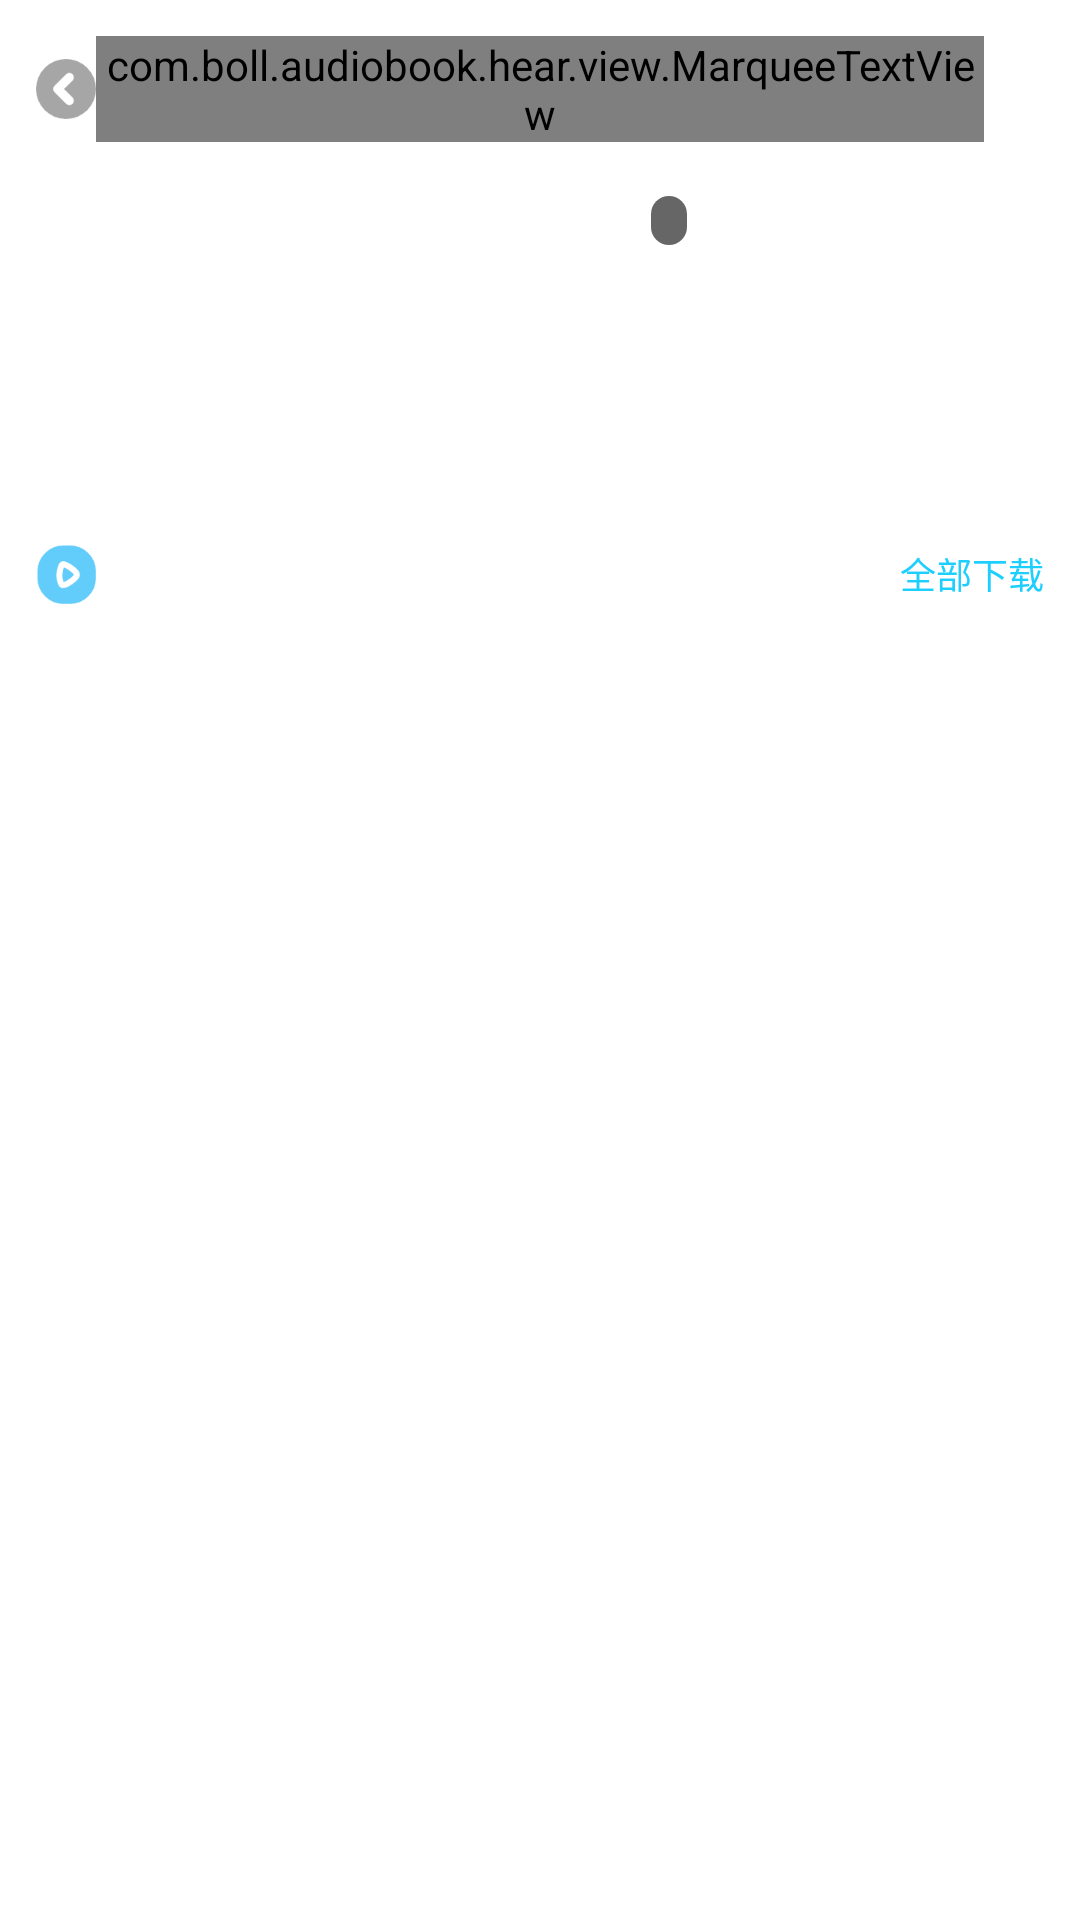

Named icons in this screenshot (1080px×1920px) and their bounding boxes, [x1,y1,x2,y2]:
back: [36,59,96,119]
play all: [37,545,96,604]
